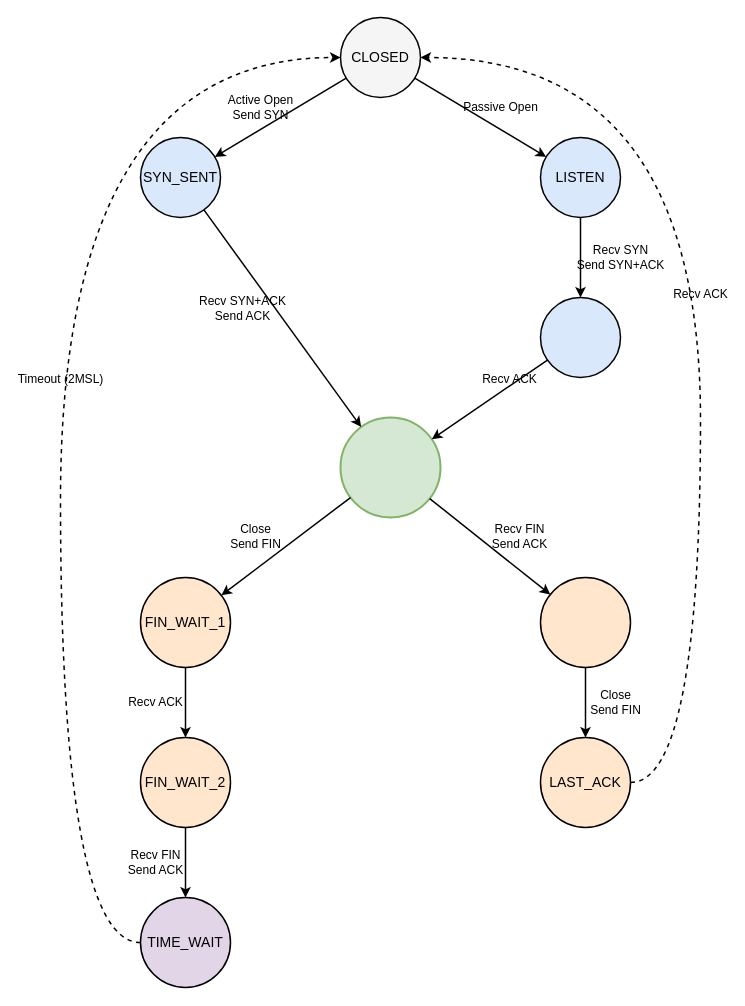
The diagram is 745 pixels wide and 1006 high, and some of its shapes have lost their labels. The centre of each missing label's shape, as x and y in pixels:
"CLOSE_WAIT" goes at [585,622].
"ESTABLISHED" goes at [390,467].
"SYN_RCVD" goes at [580,337].
